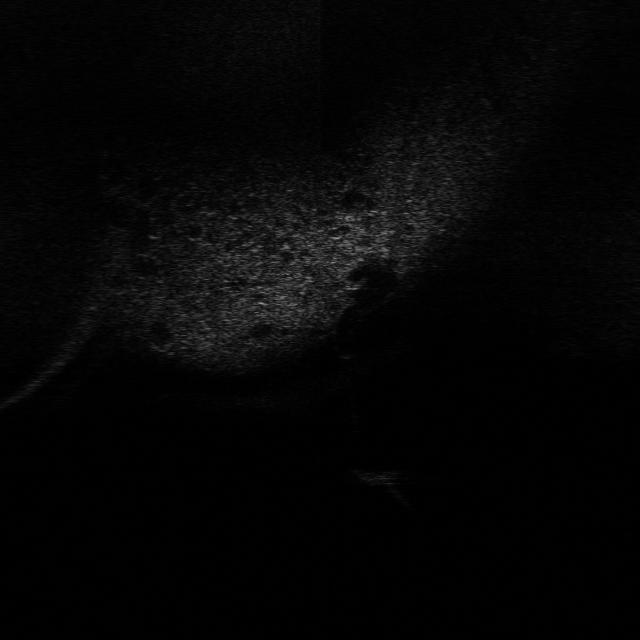ball: (334, 334, 360, 362)
cube: (348, 465, 402, 490)
